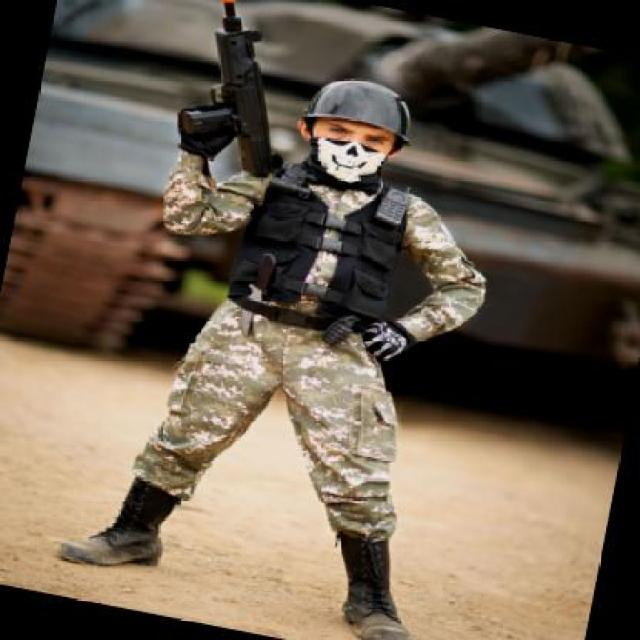MIL_Pax: (58, 41, 517, 638)
